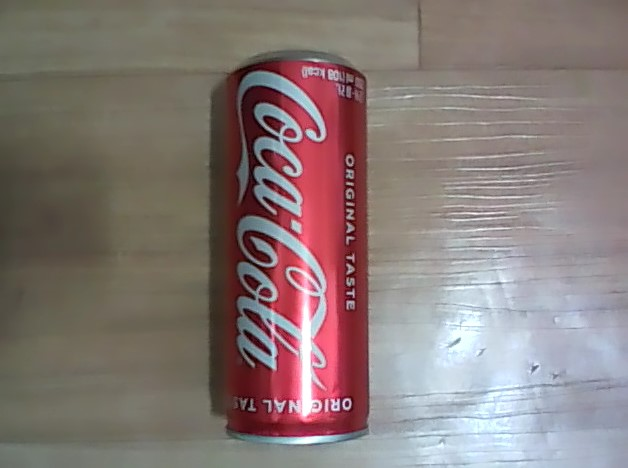Can: (200, 42, 379, 451)
